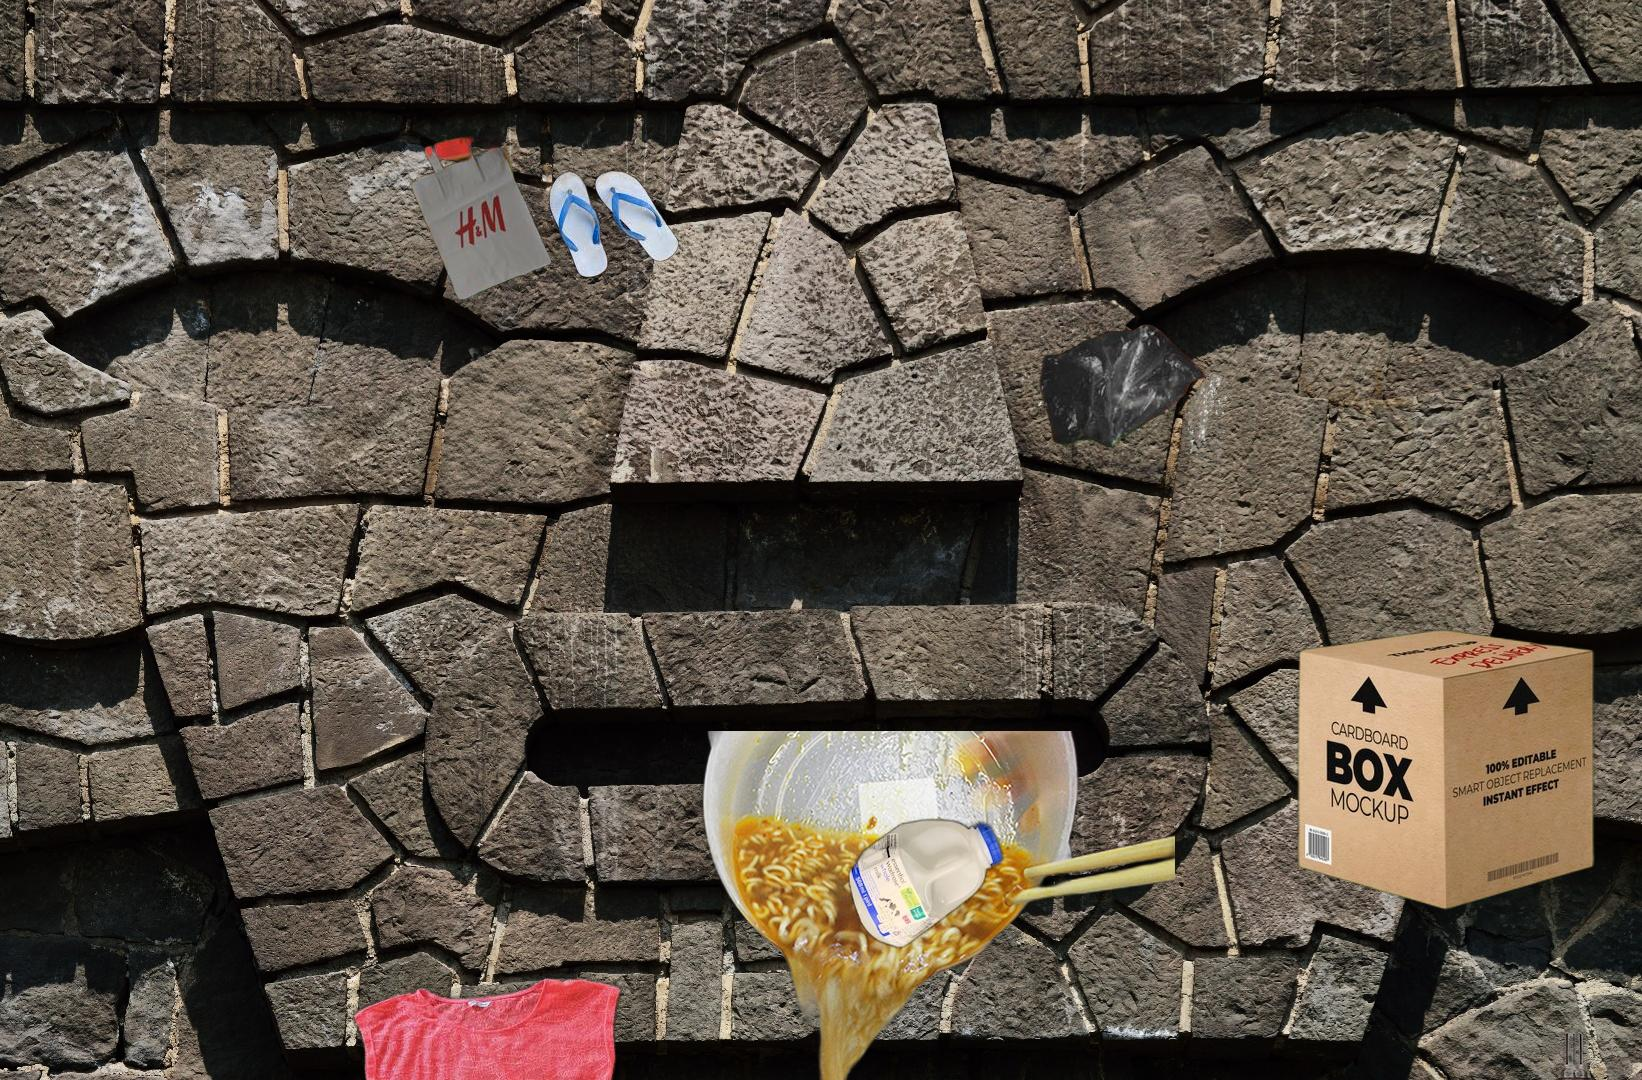biological: (698, 730, 1175, 1080)
clothes: (348, 973, 626, 1080)
paper-bag: (307, 113, 555, 304)
penholder: (1544, 1022, 1642, 1080)
plastic-bag: (1037, 321, 1216, 450)
plastic-bottles: (844, 814, 1008, 953)
shoes: (546, 168, 681, 280)
trashbox-cardboard: (1293, 626, 1599, 912)
